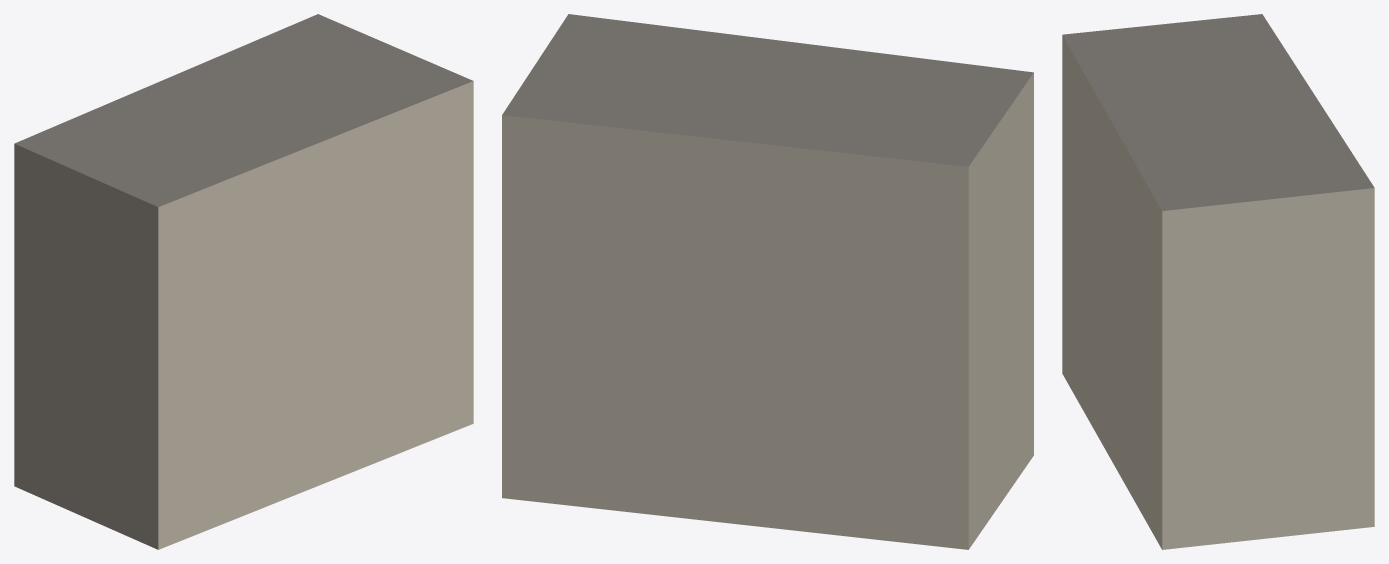
The picture shows the model from 3 angles, left to right: view 1: azimuth 30°, elevation 25°; view 2: azimuth 150°, elevation 25°; view 3: azimuth 270°, elevation 25°; orthographic projection. The views are drawn at different scales.
Parts seen in each view (by area): view 1: HP-w505649236; view 2: HP-w505649236; view 3: HP-w505649236.
Boxes of the visible parts, x1=… form: HP-w505649236: x1=14, y1=14, x2=473, y2=549; HP-w505649236: x1=502, y1=14, x2=1033, y2=549; HP-w505649236: x1=1062, y1=14, x2=1374, y2=549.
Bounding box in the file's own units: 22.46 × 18 × 15.05.
